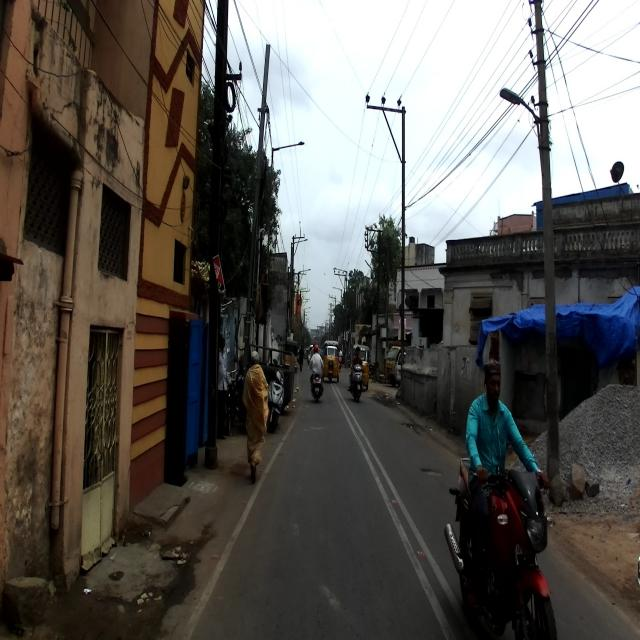motorcycle_bajaj: (442, 456, 558, 639)
scooter: (265, 359, 284, 429), (348, 362, 364, 402), (309, 366, 322, 402)
